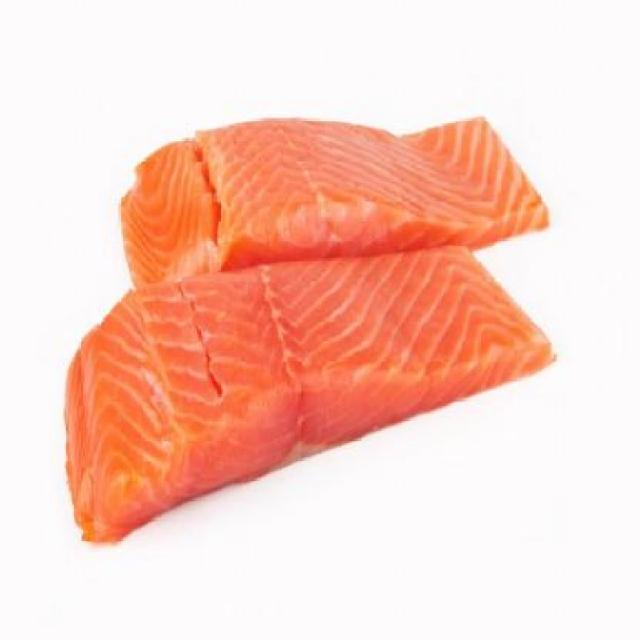salmon: (57, 243, 556, 554), (114, 112, 556, 293)
